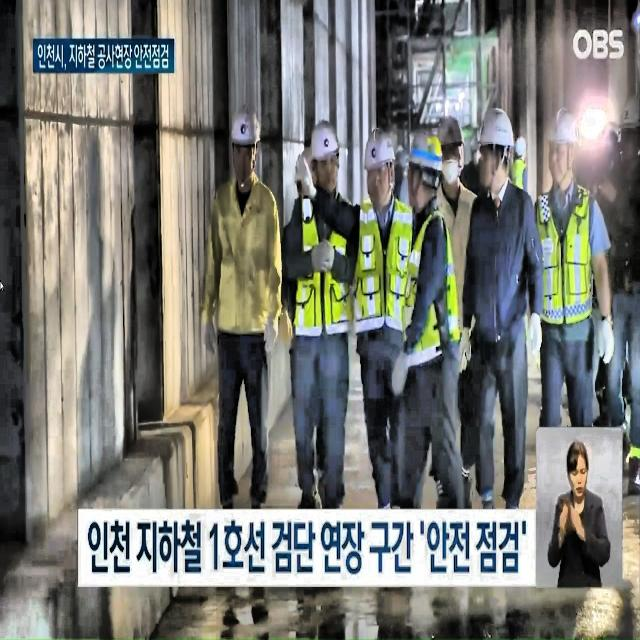safety_helmet: (470, 96, 522, 158), (289, 111, 345, 167), (535, 100, 581, 168), (401, 116, 440, 180), (435, 96, 466, 158), (226, 110, 274, 149), (358, 128, 392, 174)
safety_jacket: (526, 176, 619, 338), (392, 207, 474, 378), (347, 186, 421, 350), (288, 196, 357, 352)
